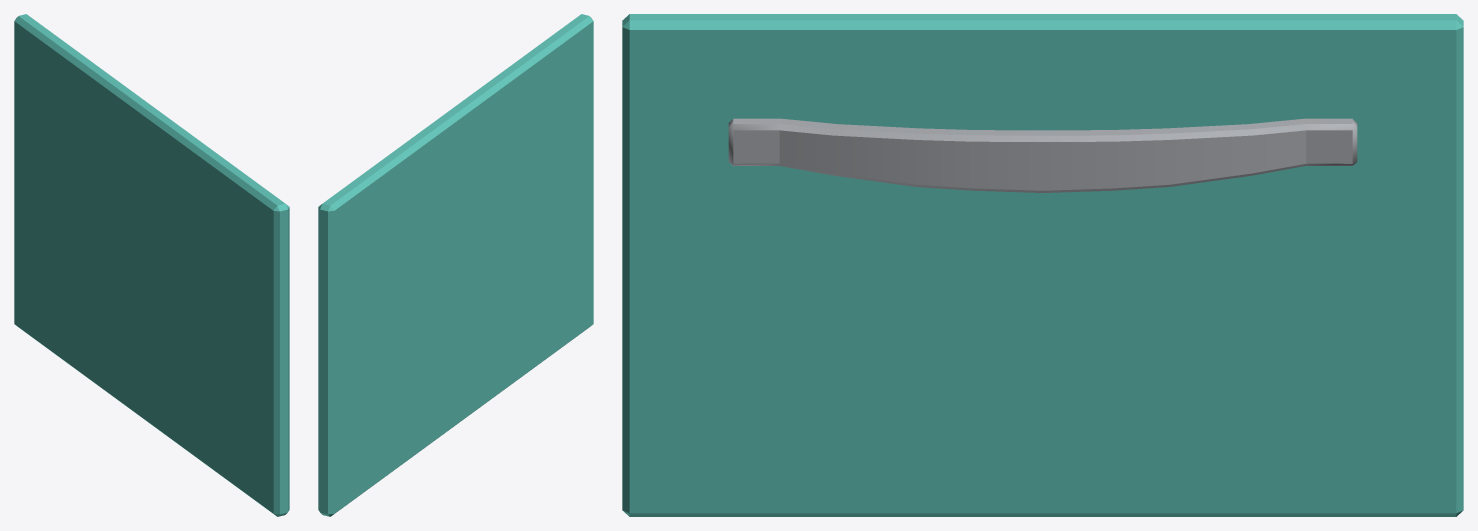
File: Set_door_5.fbx
3 views of the same model, side by side, from view 1: azimuth 30°, elevation 25°; view 2: azimuth 150°, elevation 25°; view 3: azimuth 270°, elevation 25° (orthographic). The views are drawn at different scales.
Parts seen in each view (by area): view 1: Set_door_5; view 2: Set_door_5; view 3: Set_door_5.
Part boxes in pixels (bbox=[...]): Set_door_5: bbox=[14, 14, 289, 516]; Set_door_5: bbox=[318, 14, 593, 516]; Set_door_5: bbox=[622, 14, 1463, 516].
Size of the model in its own units: 0.0655 by 0.3696 by 0.5675.
